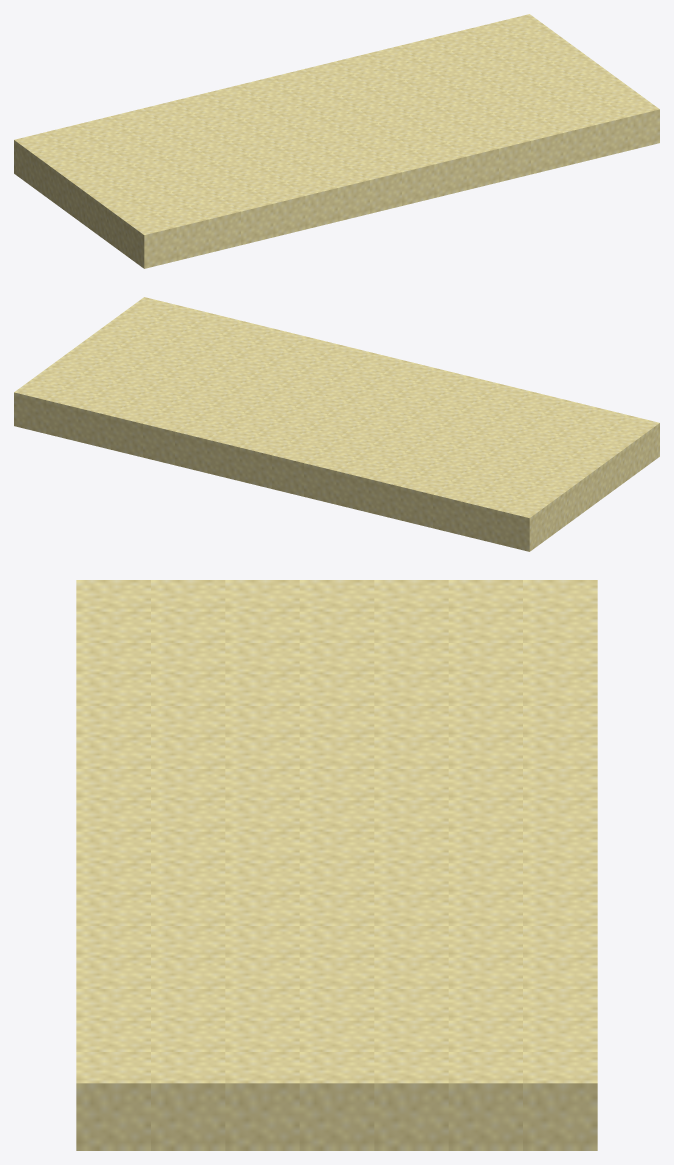
Rendered from sand_platform.fbx.
3 renders of one model, top to bottom at view 1: azimuth 30°, elevation 25°; view 2: azimuth 150°, elevation 25°; view 3: azimuth 270°, elevation 25°, orthographic. The views are drawn at different scales.
Visible parts, largest first — view 1: Cube.107; view 2: Cube.107; view 3: Cube.107.
Boxes of the visible parts, x1,y1,x2,y2 form: Cube.107: [14, 14, 659, 268]; Cube.107: [14, 297, 659, 551]; Cube.107: [76, 580, 597, 1150].
Bounding box in the file's own units: 3200 × 200 × 1400.
